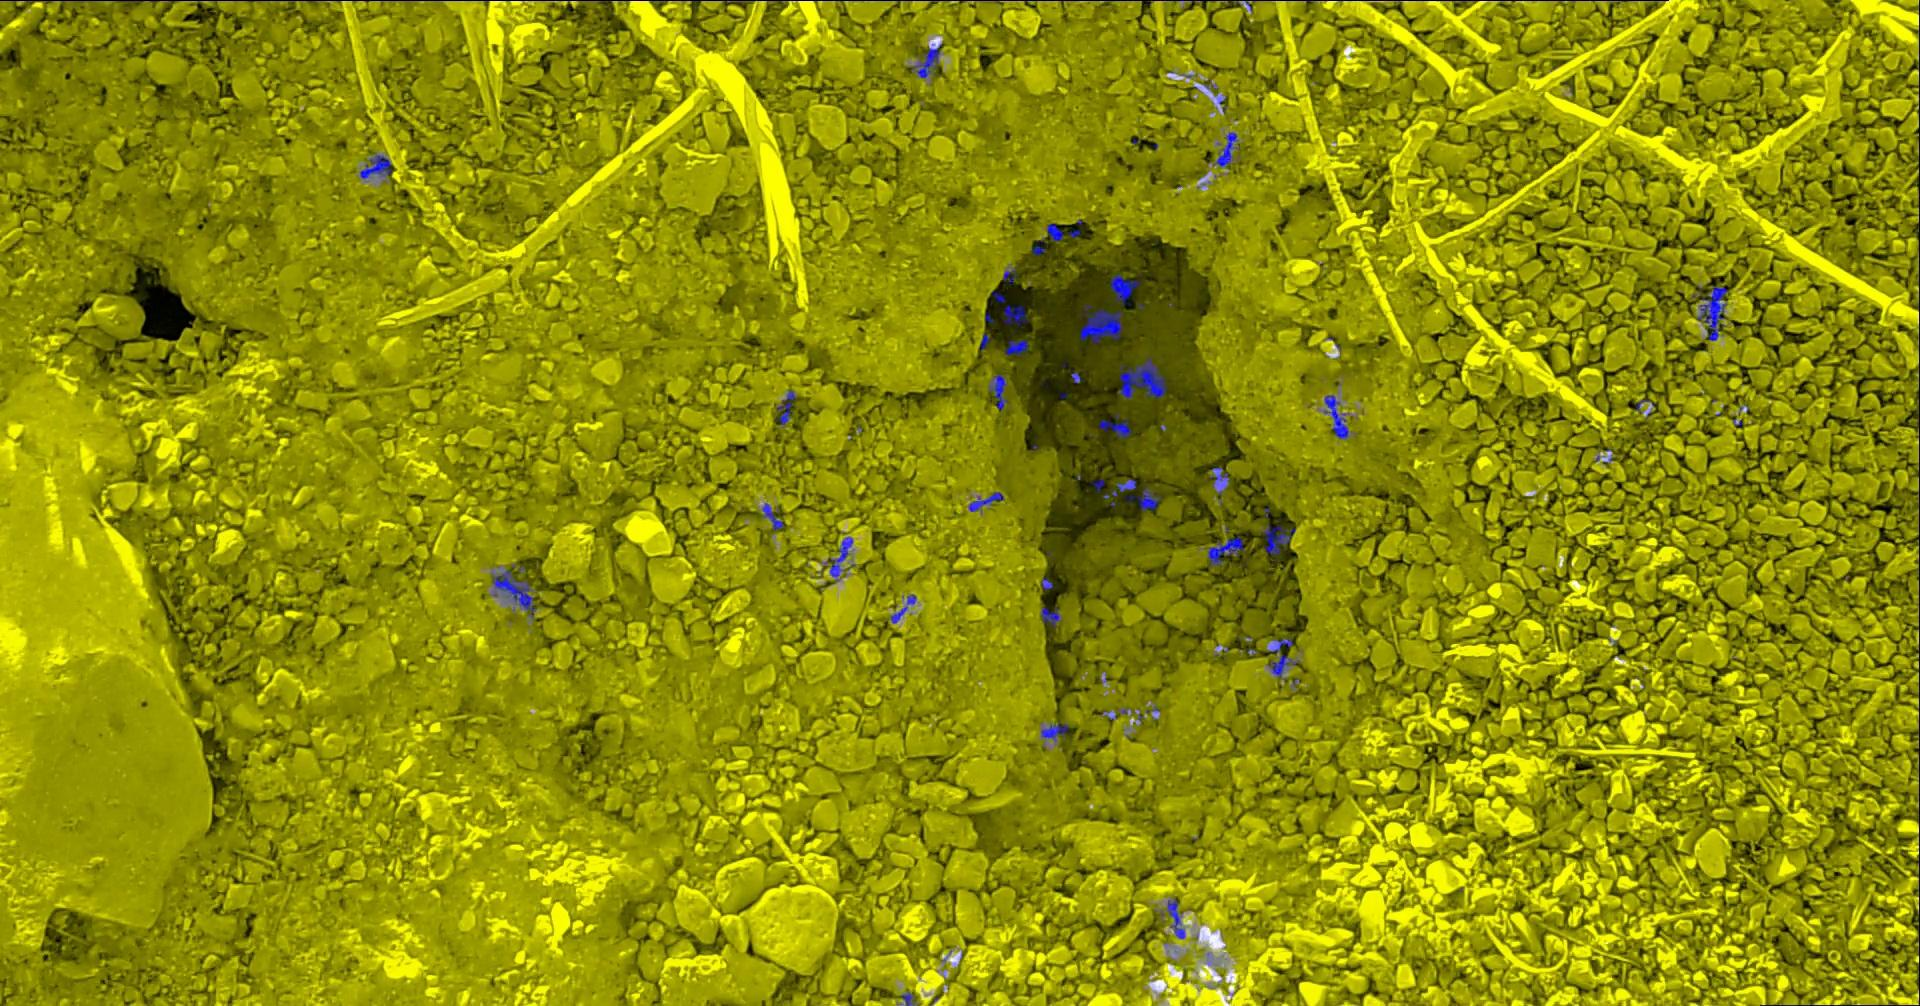ant: (491, 569, 537, 619), (1102, 478, 1161, 511), (1079, 304, 1123, 343), (1697, 286, 1727, 340), (824, 536, 852, 580), (909, 42, 942, 77), (1323, 394, 1349, 438), (1260, 525, 1295, 554), (1208, 536, 1243, 565), (1109, 273, 1139, 306), (1098, 413, 1131, 438), (1214, 131, 1237, 166), (359, 152, 391, 178), (988, 373, 1010, 410), (889, 594, 916, 622), (775, 389, 795, 424), (968, 492, 1003, 511), (759, 502, 783, 530), (1267, 654, 1297, 677), (1167, 898, 1183, 937), (1002, 304, 1026, 329), (1040, 721, 1067, 741), (1208, 466, 1229, 486), (1040, 607, 1060, 626), (1004, 339, 1029, 354), (1270, 636, 1291, 652), (1046, 222, 1062, 241), (1031, 238, 1044, 255), (1090, 478, 1103, 492), (900, 991, 914, 1005), (1002, 267, 1015, 282)
